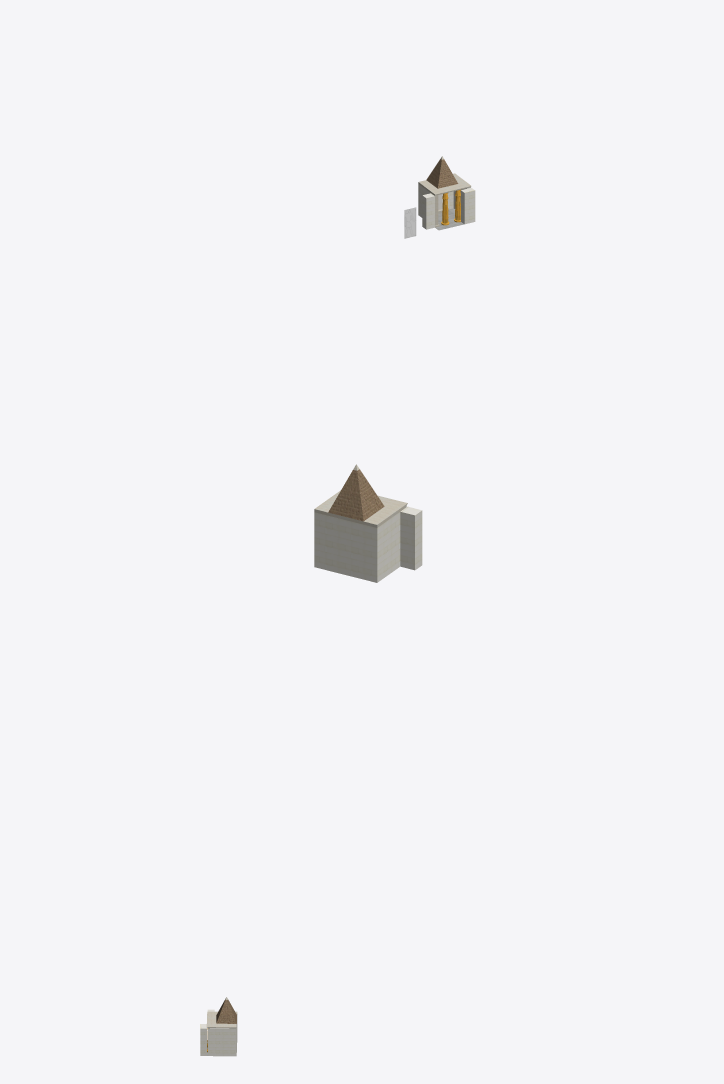
The picture shows the model from 3 angles, top to bottom: view 1: azimuth 30°, elevation 25°; view 2: azimuth 150°, elevation 25°; view 3: azimuth 270°, elevation 25°; orthographic projection. The views are drawn at different scales.
Visible parts, largest first — view 1: Mesh6 Model, Mesh7 Model; view 2: Mesh6 Model; view 3: Mesh6 Model.
Boxes of the visible parts, left/top/right/bottom form: Mesh6 Model: left=418, top=156, right=475, bottom=230; Mesh7 Model: left=404, top=207, right=416, bottom=238; Mesh6 Model: left=314, top=464, right=422, bottom=582; Mesh6 Model: left=200, top=997, right=237, bottom=1056.
Size of the model in its own units: 19.94 by 3.3 by 40.18.
10 materials, 9 textured.
